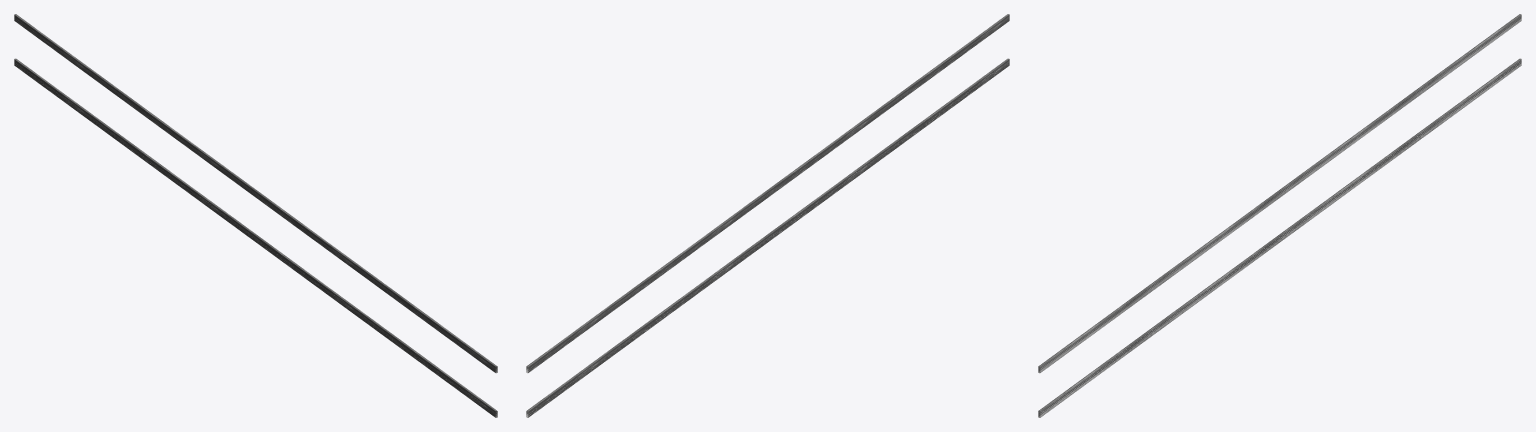
File: SM_Fence_E3_Splines_20.fbx
The picture shows the model from 3 angles, left to right: view 1: azimuth 30°, elevation 25°; view 2: azimuth 150°, elevation 25°; view 3: azimuth 330°, elevation 25°; orthographic projection.
Visible parts, largest first — view 1: SM_Fence_E3_Splines_20; view 2: SM_Fence_E3_Splines_20; view 3: SM_Fence_E3_Splines_20.
Boxes of the visible parts, x1,y1,x2,y2 form: SM_Fence_E3_Splines_20: (14,14,497,417); SM_Fence_E3_Splines_20: (526,14,1009,417); SM_Fence_E3_Splines_20: (1038,14,1521,417).
Bounding box in the file's own units: 2.62 × 1049 × 61.66.
1 material, 1 textured.
